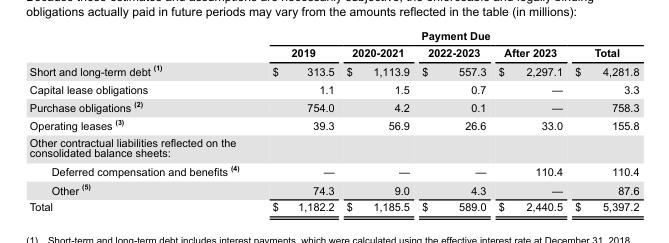table: (28, 29, 638, 212)
table column: (28, 29, 255, 212), (255, 29, 339, 212), (491, 29, 568, 212), (339, 29, 415, 212), (415, 29, 491, 212), (568, 29, 638, 212)
table column header: (28, 29, 638, 60)
table projected row header: (28, 133, 638, 161)
table row: (28, 133, 638, 161), (28, 60, 638, 79), (28, 79, 638, 97), (28, 97, 638, 115), (28, 115, 638, 133), (28, 161, 638, 179), (28, 179, 638, 197), (28, 44, 638, 60), (28, 29, 638, 44), (28, 197, 638, 212)
table spanning cell: (255, 29, 638, 44)
